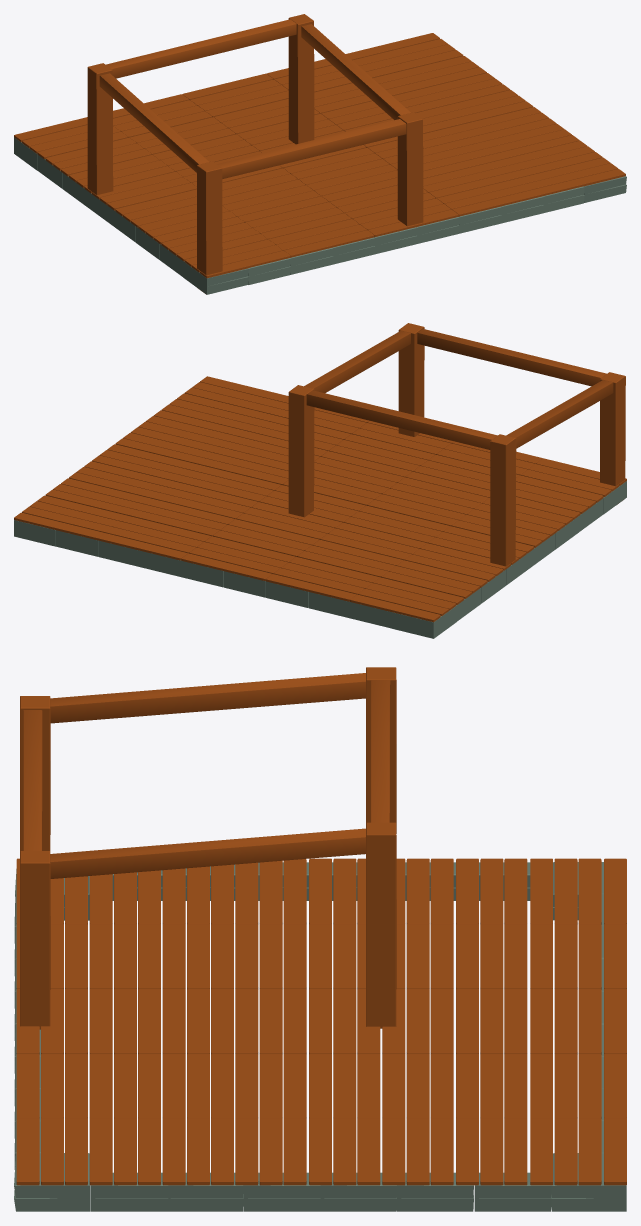
File: SM_LumberMill_Construction.fbx
3 views of the same model, one above another, from view 1: azimuth 30°, elevation 25°; view 2: azimuth 150°, elevation 25°; view 3: azimuth 270°, elevation 25° (orthographic). The views are drawn at different scales.
Visible parts, largest first — view 1: SM_FloorBoard_2M, SM_Beam_Long, SM_Foundation_Stone, SM_Post_01.001, SM_Post_01.003, SM_Post_01, SM_Post_01.002; view 2: SM_FloorBoard_2M, SM_Foundation_Stone, SM_Beam_Long, SM_Post_01.001, SM_Post_01.003, SM_Post_01, SM_Post_01.002; view 3: SM_FloorBoard_2M, SM_Beam_Long, SM_Foundation_Stone, SM_Post_01.003, SM_Post_01.002, SM_Post_01.001, SM_Post_01.
Boxes of the visible parts, x1,y1,x2,y2 form: SM_FloorBoard_2M: (14, 33, 625, 278); SM_Beam_Long: (99, 19, 410, 178); SM_Foundation_Stone: (14, 137, 626, 294); SM_Post_01.001: (87, 63, 113, 194); SM_Post_01.003: (288, 14, 314, 144); SM_Post_01: (197, 161, 222, 292); SM_Post_01.002: (397, 112, 423, 226); SM_FloorBoard_2M: (14, 376, 626, 622); SM_Foundation_Stone: (14, 481, 626, 638); SM_Beam_Long: (304, 329, 613, 449); SM_Post_01.001: (490, 434, 516, 566); SM_Post_01.003: (288, 385, 314, 517); SM_Post_01: (600, 372, 625, 504); SM_Post_01.002: (398, 323, 424, 436); SM_FloorBoard_2M: (16, 858, 626, 1185); SM_Beam_Long: (23, 673, 390, 878); SM_Foundation_Stone: (14, 862, 626, 1211); SM_Post_01.003: (366, 822, 396, 1028); SM_Post_01.002: (20, 851, 50, 1029); SM_Post_01.001: (366, 667, 396, 833); SM_Post_01: (20, 696, 50, 850).
Bounding box in the file's own units: 999 × 800 × 321.
